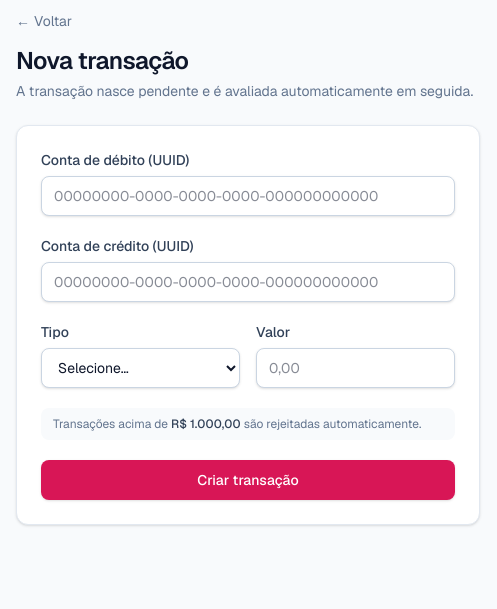
Test: NewTransactionPage (formulário) › valida os campos e não envia quando estão vazios
Click the button "Criar transação": (248, 480) [41,460,455,500]
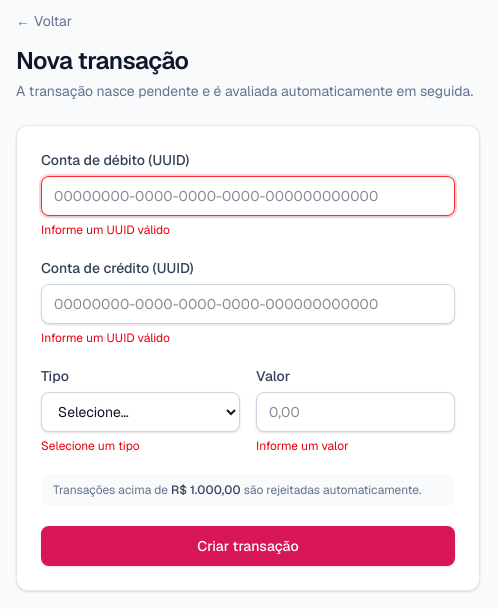
Result: the text "Informe um UUID válido" is shown 2 times at [41,222,170,238]; [41,330,170,346]
Result: the text "Informe um valor" is shown at [256,438,348,454]
